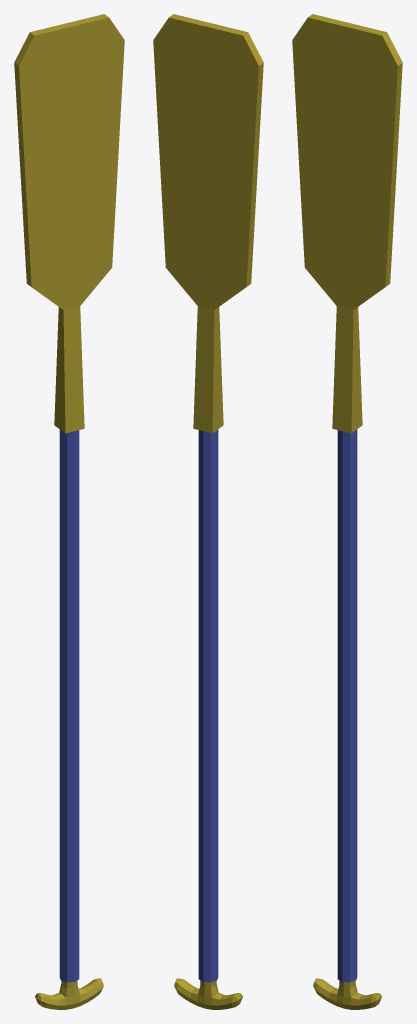
The model's file is raft_paddle.glb.
3 views of the same model, side by side, from view 1: azimuth 30°, elevation 25°; view 2: azimuth 150°, elevation 25°; view 3: azimuth 330°, elevation 25° (orthographic).
Visible parts, largest first — view 1: Raft_Paddle; view 2: Raft_Paddle; view 3: Raft_Paddle.
Part boxes in pixels (x1,y1,x2,y2): Raft_Paddle: (14, 14, 124, 1009); Raft_Paddle: (153, 14, 263, 1009); Raft_Paddle: (292, 14, 402, 1009).
Bounding box in the file's own units: 0.1567 × 1.39 × 0.0285.
1 material, 1 textured.
